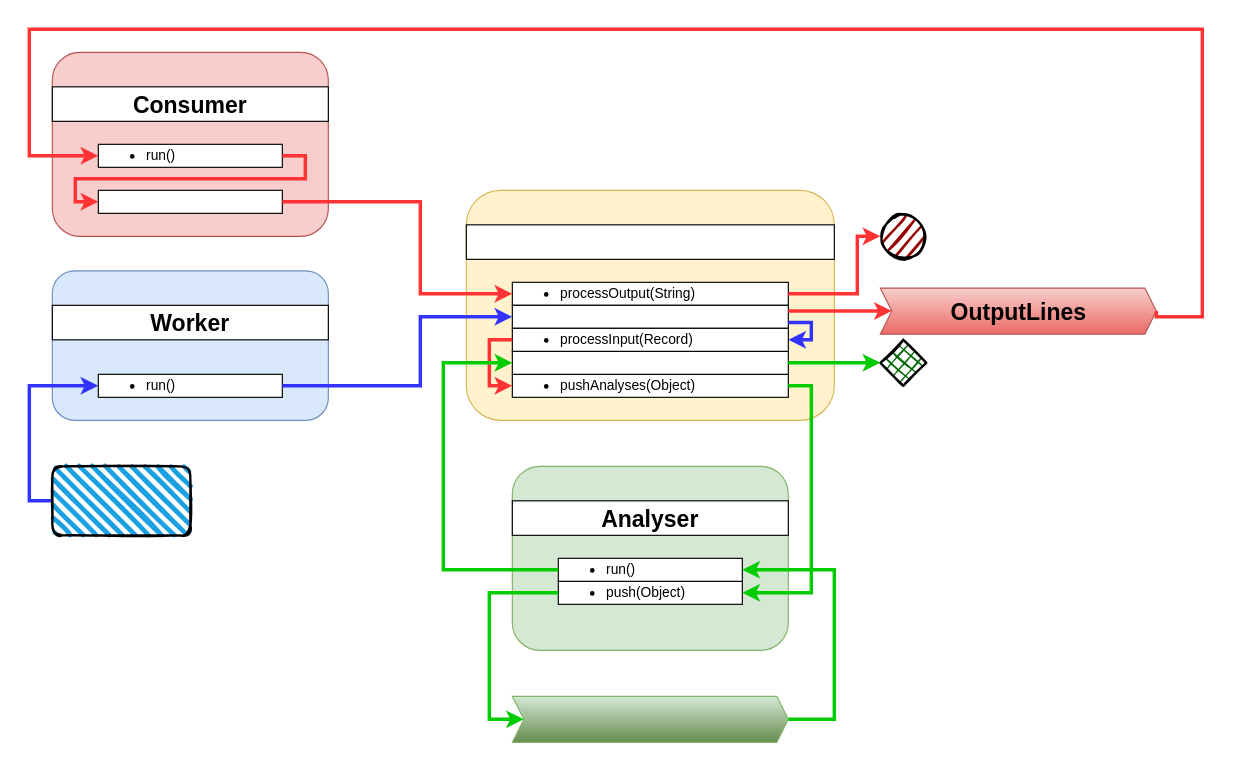
This 1233x762 diagram has some shape labels left out. The shapes that lost their labels are listed below. From the top down, each one's box as (x1, y1, x2, y2) in pixels, then its label:
(97, 189, 282, 213): process(Output)
(465, 224, 834, 259): ParallelFunction
(511, 304, 788, 328): pushInput(int, Record)
(511, 350, 788, 374): checkAndProcessAnalysis(Object)
(51, 465, 191, 536): VCF/BCF
(511, 695, 788, 742): Analyses
